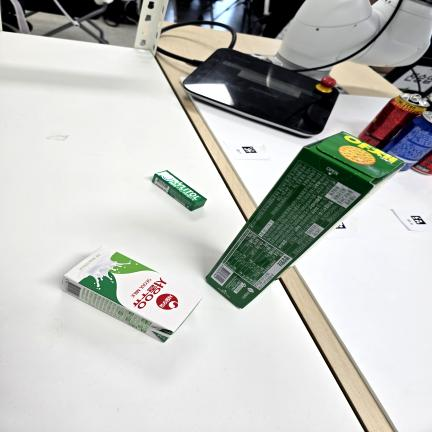cracker_vege: (206, 132, 404, 308)
gum_green: (152, 171, 206, 211)
milk_green: (62, 246, 202, 342)
